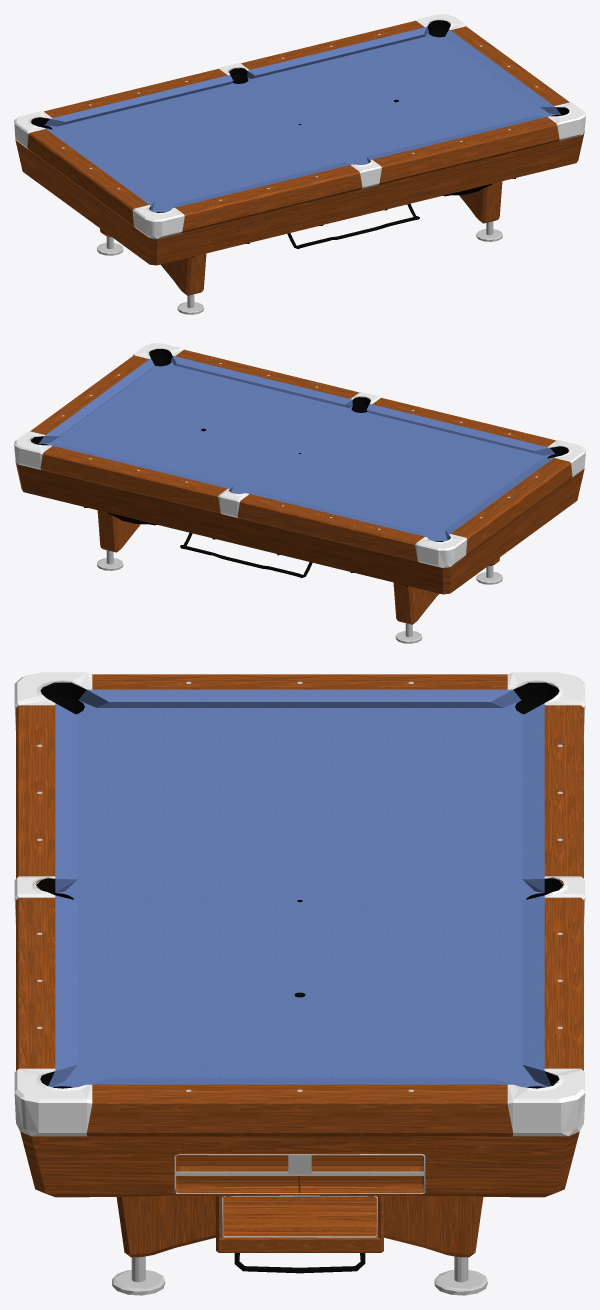
File: BilliardsTableModel.fbx
3 renders of one model, top to bottom at view 1: azimuth 30°, elevation 25°; view 2: azimuth 150°, elevation 25°; view 3: azimuth 270°, elevation 25°, orthographic. The views are drawn at different scales.
Visible parts, largest first — view 1: polySurface629; view 2: polySurface629; view 3: polySurface629.
Boxes of the visible parts, x1,y1,x2,y2 form: polySurface629: [14, 14, 585, 314]; polySurface629: [14, 343, 585, 643]; polySurface629: [14, 672, 585, 1295].
Bounding box in the file's own units: 289 × 80.21 × 163.
Materials: 11 (3 with a texture image).
